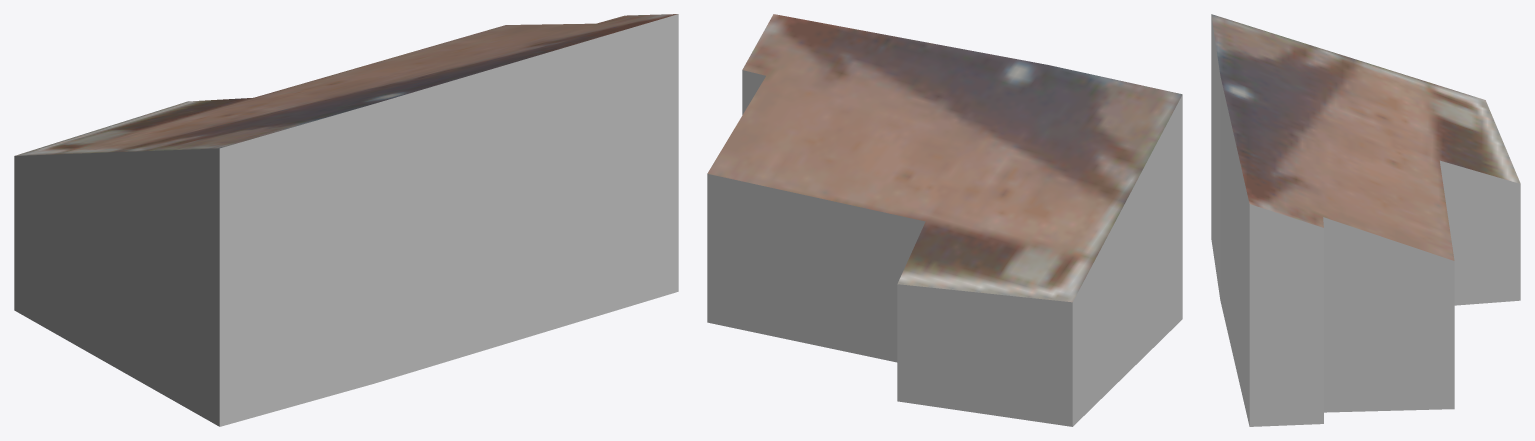
The model's file is DEBW_0010007Tx3n.gltf.
3 views of the same model, side by side, from view 1: azimuth 30°, elevation 25°; view 2: azimuth 150°, elevation 25°; view 3: azimuth 270°, elevation 25° (orthographic). The views are drawn at different scales.
Parts seen in each view (by area): view 1: Z_UP; view 2: Z_UP; view 3: Z_UP.
Boxes of the visible parts, x1,y1,x2,y2 form: Z_UP: (14, 14, 678, 426); Z_UP: (707, 14, 1182, 426); Z_UP: (1211, 14, 1520, 426).
Bounding box in the file's own units: 17.75 × 9.17 × 11.45.
2 materials, 1 textured.
